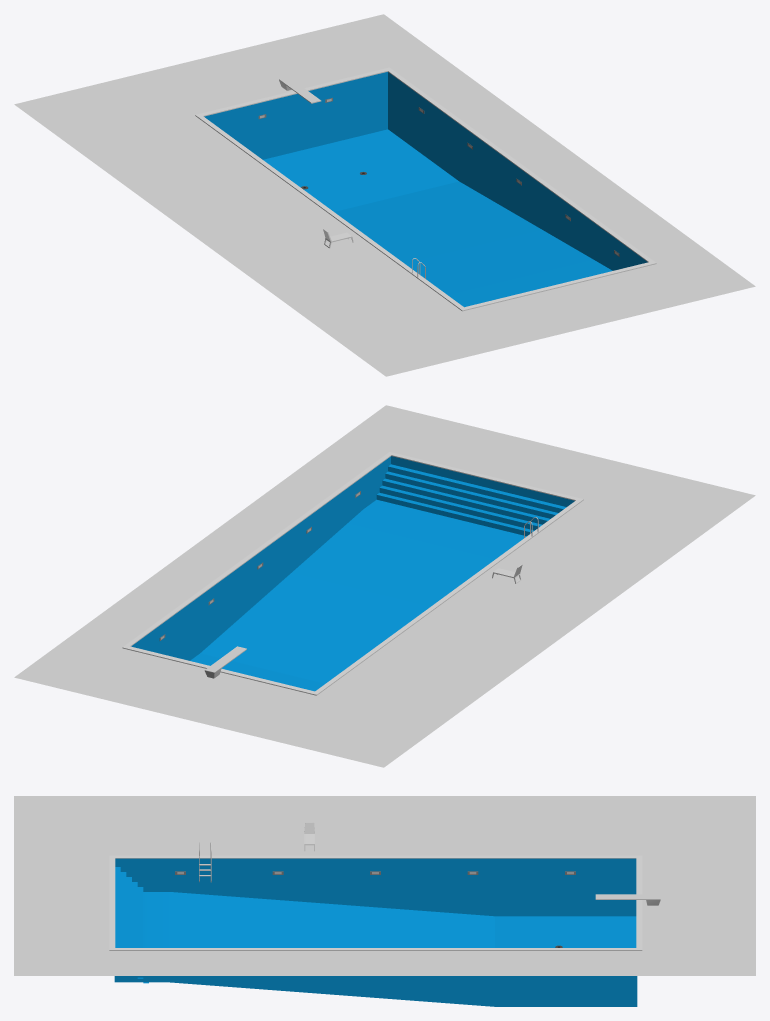
File: resort_pool.fbx
3 renders of one model, top to bottom at view 1: azimuth 30°, elevation 25°; view 2: azimuth 150°, elevation 25°; view 3: azimuth 270°, elevation 25°, orthographic.
Parts seen in each view (by area): view 1: resort_J_pool_frame_B, resort_J_pool_tiles, resort_J_pool_border; view 2: resort_J_pool_frame_B, resort_J_pool_tiles, resort_J_pool_stairs_B, resort_J_pool_border; view 3: resort_J_pool_frame_B, resort_J_pool_tiles, resort_J_pool_border, resort_J_pool_stairs_B, pool_tremplin.
Part boxes in pixels (box(x1,y1,x2,y2)): resort_J_pool_frame_B: box(14, 14, 755, 376); resort_J_pool_tiles: box(204, 72, 647, 307); resort_J_pool_border: box(195, 67, 656, 311); resort_J_pool_frame_B: box(14, 405, 755, 767); resort_J_pool_tiles: box(131, 456, 574, 691); resort_J_pool_stairs_B: box(376, 464, 566, 536); resort_J_pool_border: box(122, 452, 583, 695); resort_J_pool_frame_B: box(14, 796, 755, 975); resort_J_pool_tiles: box(114, 858, 637, 1006); resort_J_pool_border: box(109, 855, 642, 950); resort_J_pool_stairs_B: box(115, 867, 148, 983); pool_tremplin: box(595, 894, 660, 905).
Size of the model in its own units: 2425 by 470 by 4225.
